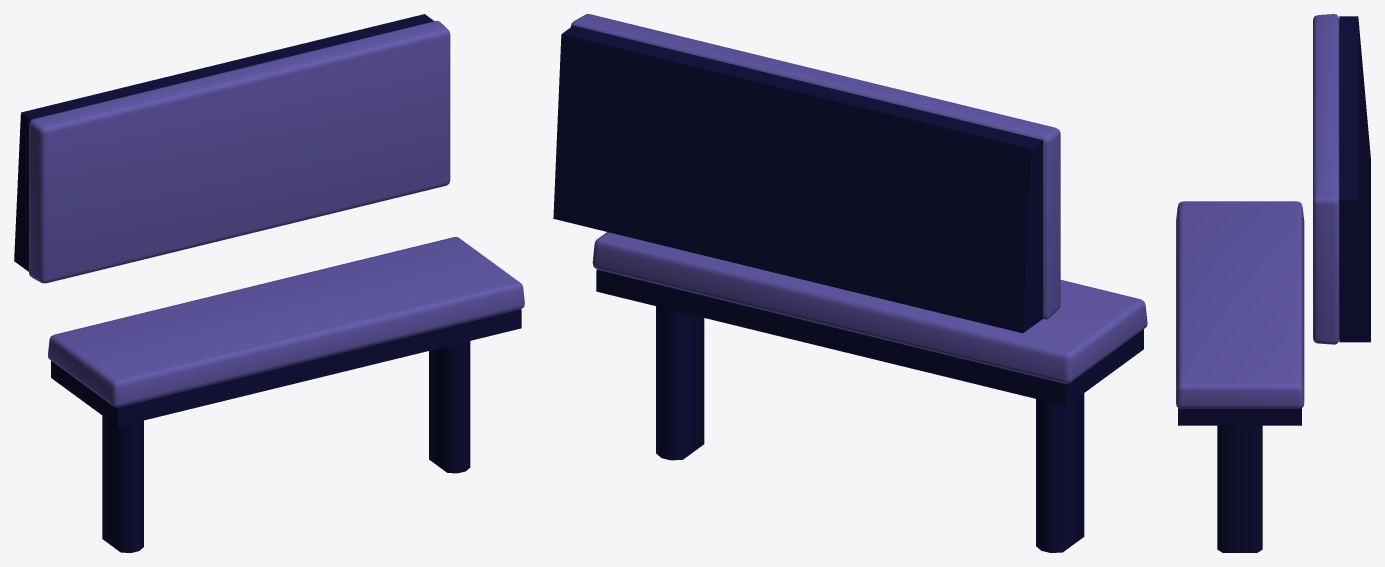
The model's file is Seat_Priority_UVW.FBX.
The picture shows the model from 3 angles, left to right: view 1: azimuth 30°, elevation 25°; view 2: azimuth 150°, elevation 25°; view 3: azimuth 270°, elevation 25°; orthographic projection. The views are drawn at different scales.
Visible parts, largest first — view 1: Seat_Priority_BackPad, Seat_Priority_Base, Seat_Priority_Legs, Seat_Priority_Back; view 2: Seat_Priority_Back, Seat_Priority_Legs, Seat_Priority_Base, Seat_Priority_BackPad; view 3: Seat_Priority_Base, Seat_Priority_Back, Seat_Priority_BackPad, Seat_Priority_Legs.
Part boxes in pixels (x1=…): Seat_Priority_BackPad: x1=29, y1=21, x2=450, y2=283; Seat_Priority_Base: x1=48, y1=237, x2=524, y2=407; Seat_Priority_Legs: x1=51, y1=309, x2=521, y2=552; Seat_Priority_Back: x1=14, y1=14, x2=433, y2=271; Seat_Priority_Back: x1=553, y1=25, x2=1042, y2=333; Seat_Priority_Legs: x1=596, y1=269, x2=1143, y2=552; Seat_Priority_Base: x1=592, y1=232, x2=1147, y2=383; Seat_Priority_BackPad: x1=570, y1=14, x2=1060, y2=319; Seat_Priority_Base: x1=1176, y1=201, x2=1304, y2=408; Seat_Priority_Back: x1=1339, y1=16, x2=1370, y2=342; Seat_Priority_BackPad: x1=1313, y1=14, x2=1339, y2=344; Seat_Priority_Legs: x1=1178, y1=408, x2=1301, y2=552.
Bounding box in the file's own units: 0.81 × 0.7435 × 0.3571.
